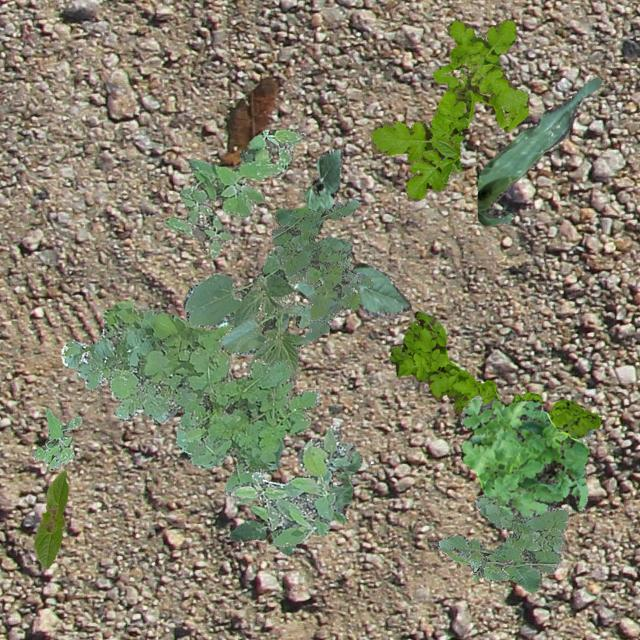crop: (182, 248, 338, 380), (476, 76, 600, 224), (294, 262, 410, 316), (32, 470, 68, 568), (216, 282, 296, 326), (304, 147, 342, 230), (328, 448, 362, 508)
weed: (61, 300, 320, 502), (370, 18, 528, 200), (388, 310, 600, 438), (436, 428, 592, 592), (164, 126, 306, 258), (458, 394, 588, 516), (228, 424, 354, 546), (270, 198, 372, 340), (228, 503, 294, 553), (30, 408, 80, 470), (439, 546, 512, 580)
